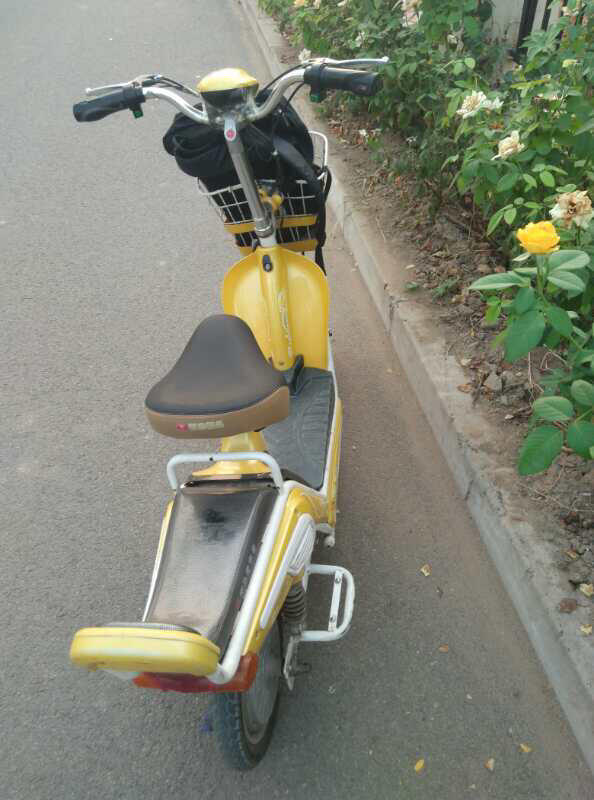电动车: (55, 50, 426, 779)
